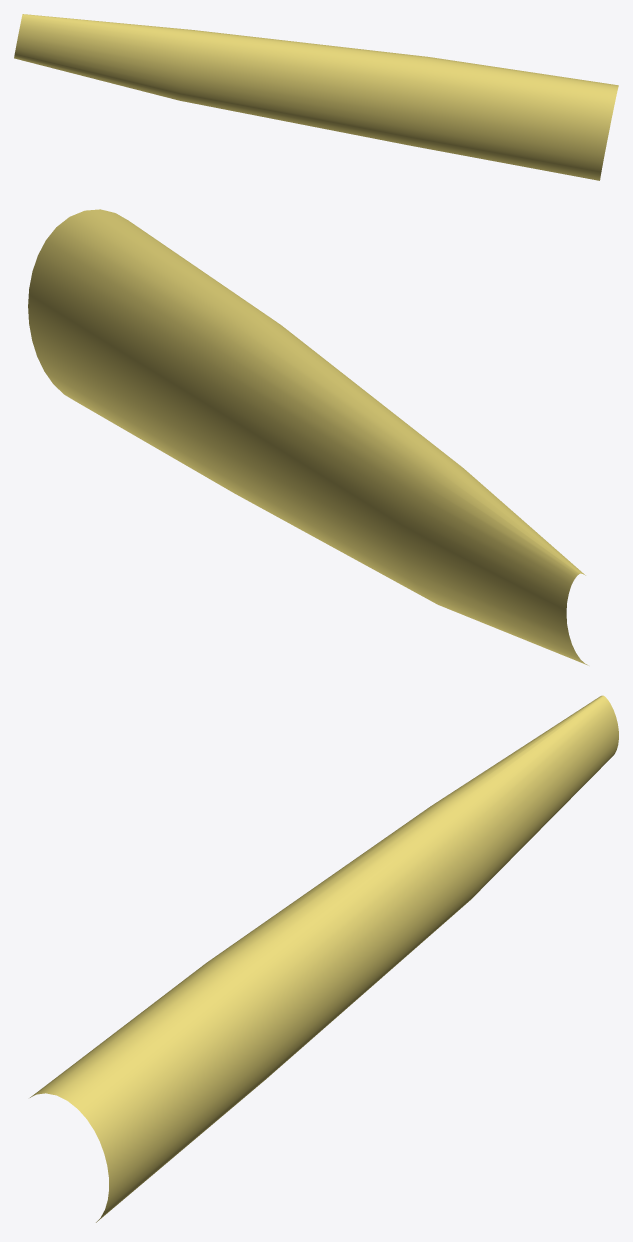
The model's file is auditory-tube-r.glb.
3 renders of one model, top to bottom at view 1: azimuth 30°, elevation 25°; view 2: azimuth 150°, elevation 25°; view 3: azimuth 270°, elevation 25°, orthographic. The views are drawn at different scales.
Visible parts, largest first — view 1: Auditory tube.r; view 2: Auditory tube.r; view 3: Auditory tube.r.
Part boxes in pixels (<box>): Auditory tube.r: <box>14,14,618,180</box>; Auditory tube.r: <box>28,209,588,665</box>; Auditory tube.r: <box>30,695,618,1222</box>.
Size of the model in its own units: 0.0203 by 0.00591 by 0.0153.
